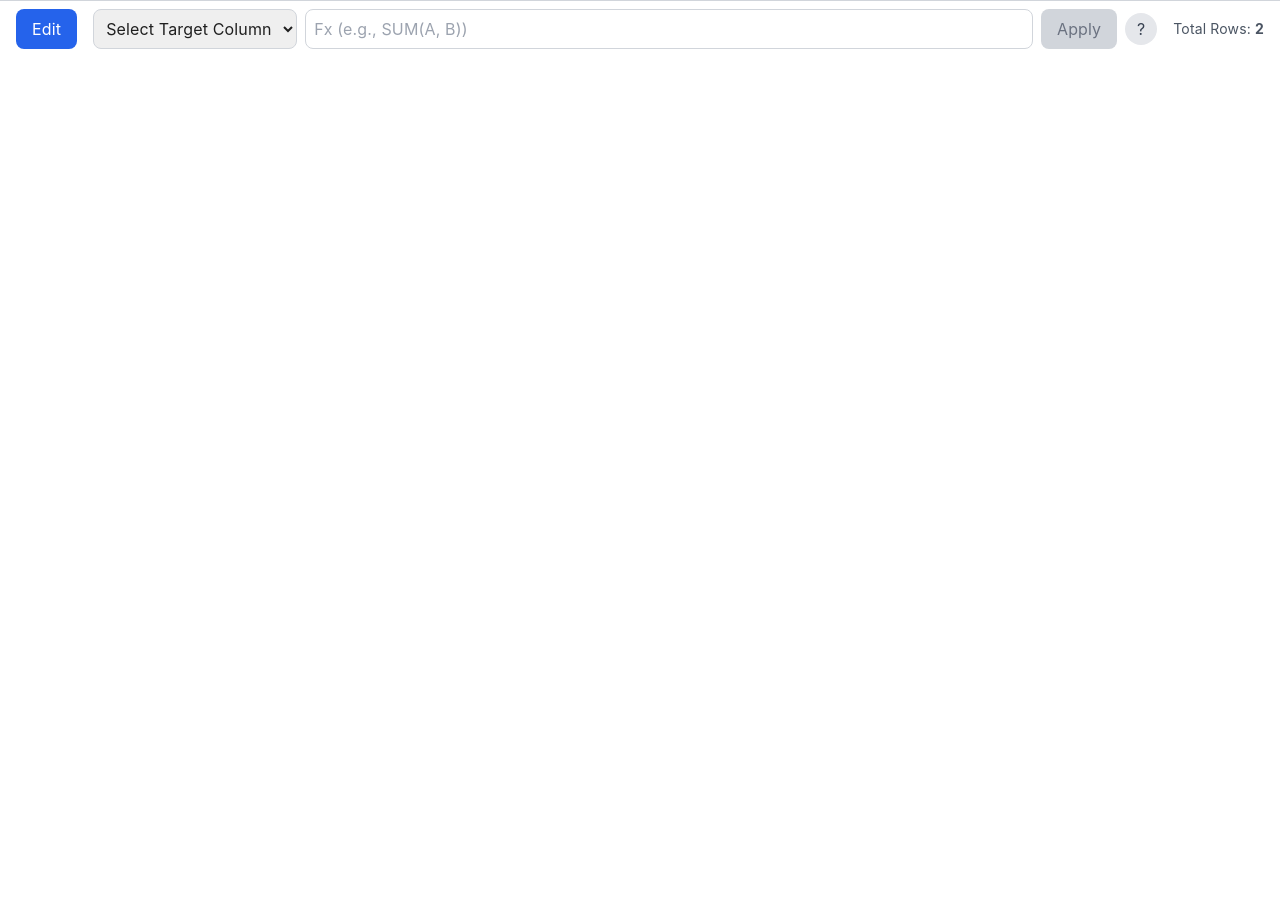
TableFooter › opens and closes help modal
Click the button "?" at {"x": 1141, "y": 29}, box [1125,13,1157,45]
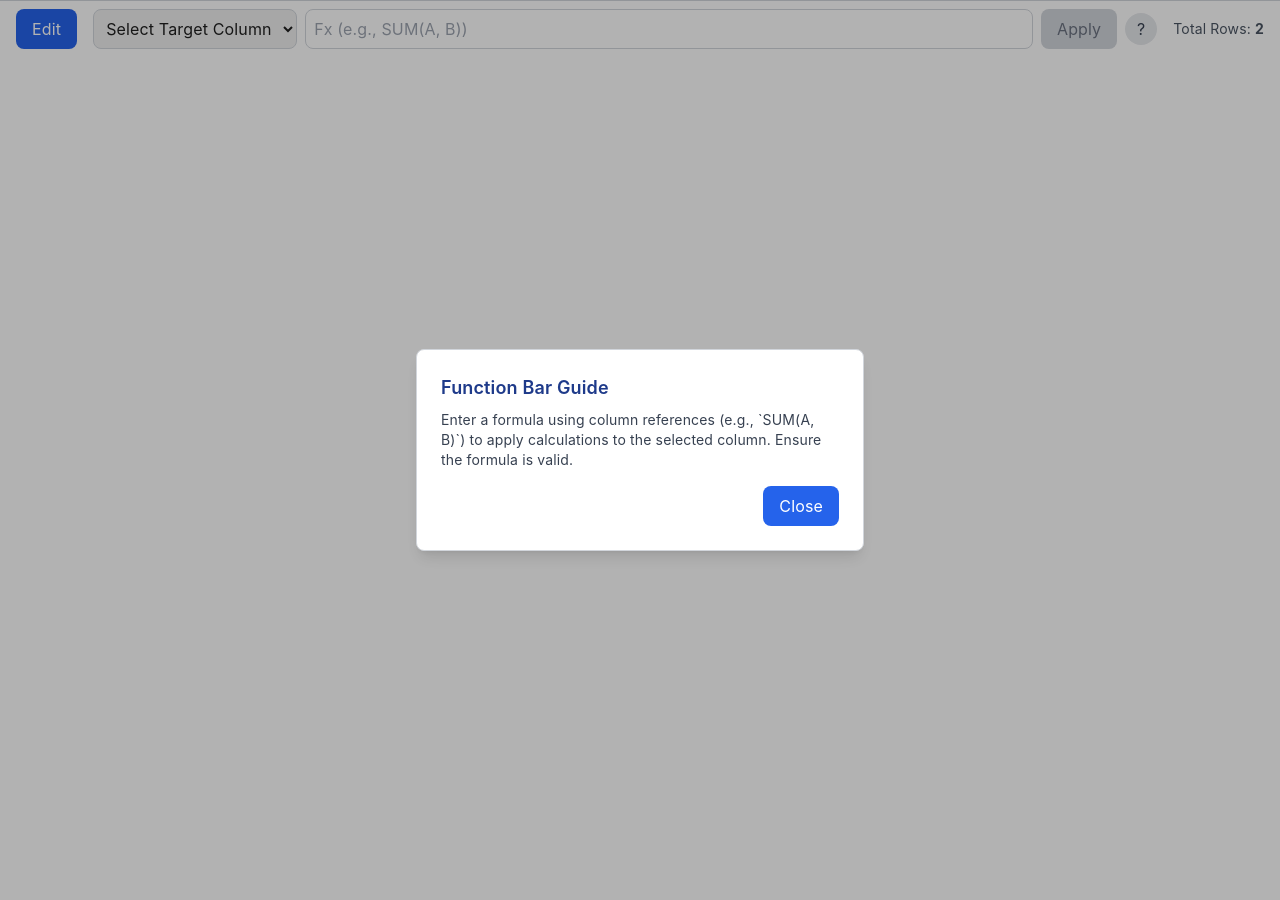
expect the heading "Function Bar Guide" is shown: met, box [441,377,609,398]
Click the button "Close" at {"x": 801, "y": 506}, box [763,486,839,526]
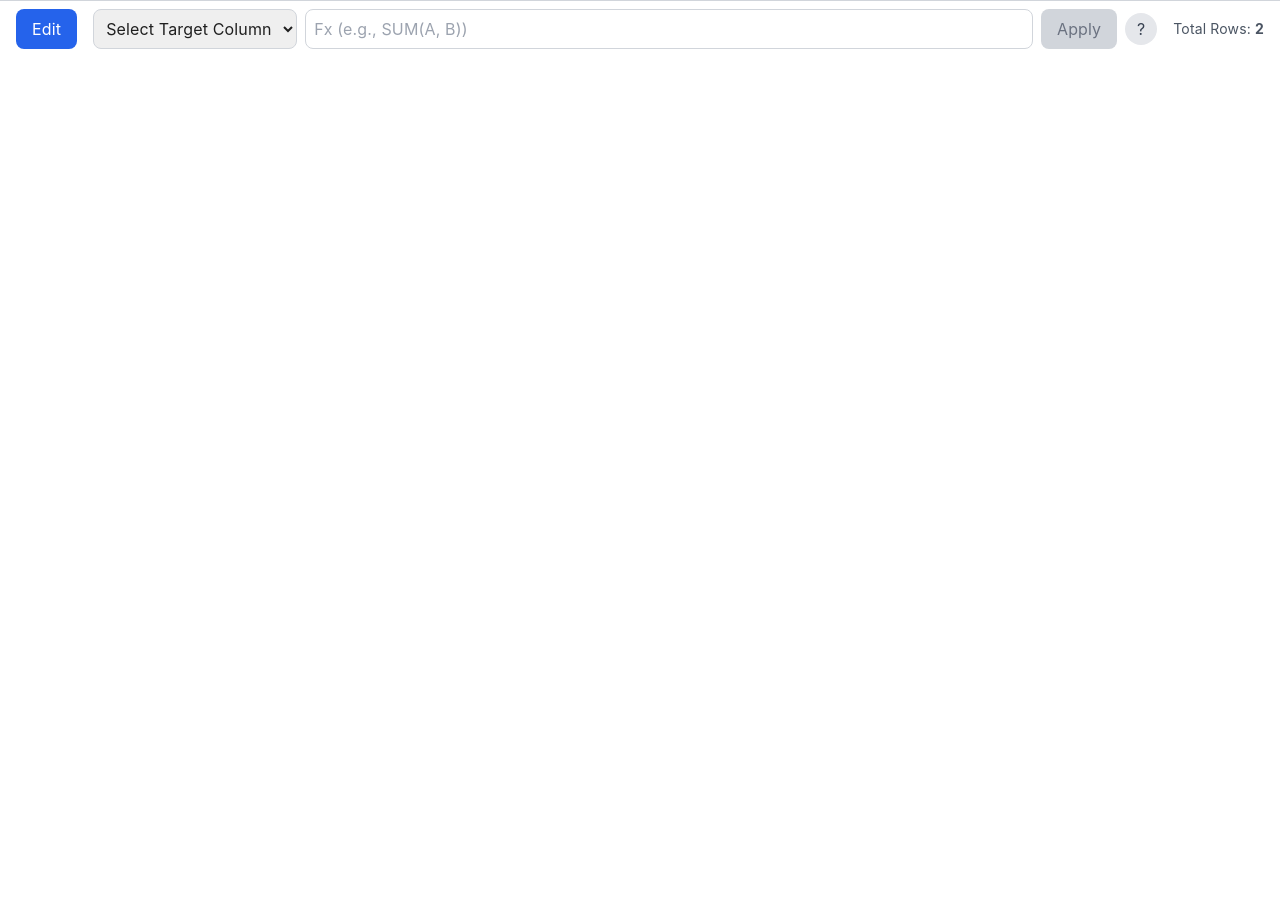
expect the heading "Function Bar Guide" is gone: met
